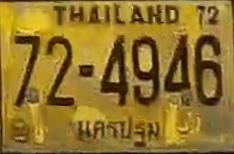2: (44, 36, 73, 106)
4: (100, 34, 128, 105), (164, 34, 190, 105)
6: (194, 34, 222, 105)
7: (13, 34, 40, 107)
9: (131, 35, 159, 105)
NPT: (73, 114, 165, 142)
